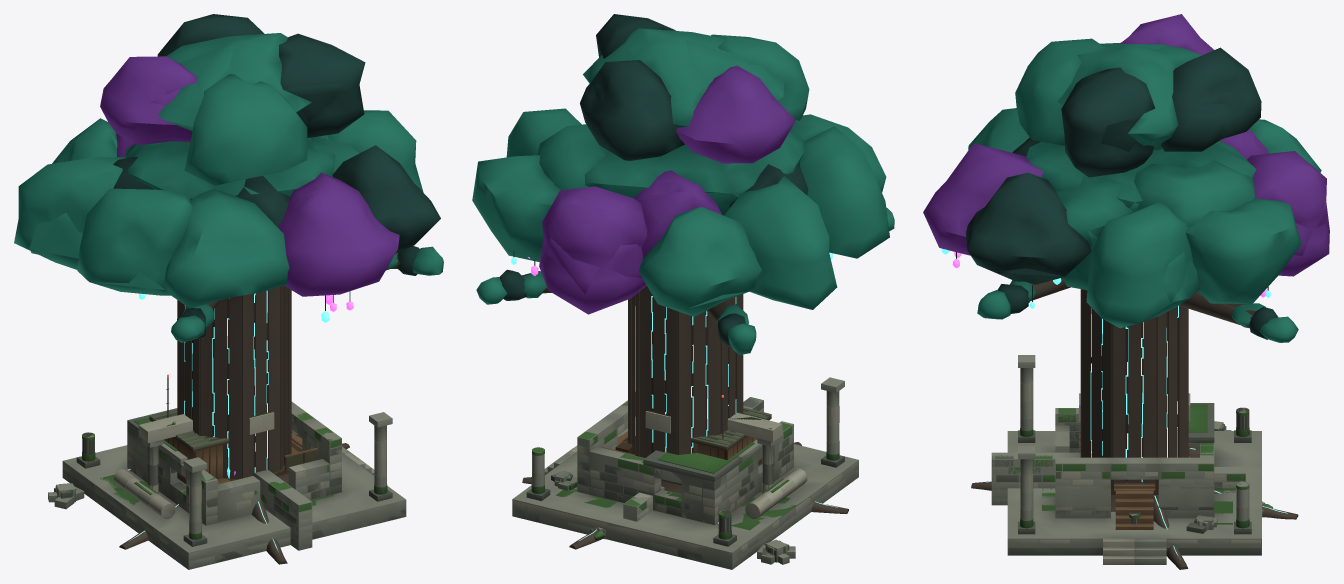
File: jungle.glb
The picture shows the model from 3 angles, left to right: view 1: azimuth 30°, elevation 25°; view 2: azimuth 150°, elevation 25°; view 3: azimuth 270°, elevation 25°; orthographic projection.
Parts seen in each view (by area): view 1: mj-tree, mj-temple-lod, mj-temple, mj-tree-lod, mj-arch-lod, mj-camp, mj-arch, mj-camp-lod, mj-colonnade, mj-colonnade-lod; view 2: mj-tree, mj-temple-lod, mj-temple, mj-tree-lod, mj-camp, mj-colonnade, mj-colonnade-lod, mj-arch, mj-camp-lod, mj-arch-lod; view 3: mj-tree, mj-temple-lod, mj-temple, mj-tree-lod, mj-arch-lod, mj-arch, mj-camp.
Boxes of the visible parts, x1=… form: mj-tree: x1=14, y1=14, x2=443, y2=564; mj-temple-lod: x1=48, y1=402, x2=406, y2=569; mj-temple: x1=48, y1=406, x2=405, y2=568; mj-tree-lod: x1=29, y1=44, x2=398, y2=563; mj-arch-lod: x1=249, y1=412, x2=312, y2=550; mj-camp: x1=149, y1=374, x2=317, y2=484; mj-arch: x1=251, y1=411, x2=311, y2=549; mj-camp-lod: x1=149, y1=413, x2=302, y2=483; mj-colonnade: x1=114, y1=414, x2=192, y2=530; mj-colonnade-lod: x1=114, y1=414, x2=192, y2=531; mj-tree: x1=472, y1=14, x2=894, y2=549; mj-temple-lod: x1=512, y1=377, x2=858, y2=569; mj-temple: x1=513, y1=379, x2=858, y2=568; mj-tree-lod: x1=523, y1=36, x2=847, y2=549; mj-camp: x1=602, y1=395, x2=771, y2=485; mj-colonnade: x1=727, y1=413, x2=806, y2=524; mj-colonnade-lod: x1=727, y1=412, x2=807, y2=531; mj-arch: x1=590, y1=397, x2=763, y2=539; mj-camp-lod: x1=622, y1=411, x2=765, y2=462; mj-arch-lod: x1=591, y1=397, x2=763, y2=530; mj-tree: x1=923, y1=14, x2=1329, y2=569; mj-temple-lod: x1=1007, y1=355, x2=1261, y2=564; mj-temple: x1=1008, y1=355, x2=1260, y2=563; mj-tree-lod: x1=971, y1=26, x2=1329, y2=569; mj-arch-lod: x1=991, y1=393, x2=1263, y2=516; mj-arch: x1=992, y1=399, x2=1264, y2=512; mj-camp: x1=1079, y1=433, x2=1190, y2=529.
Bounding box in the file's own units: 26.25 × 31.81 × 25.61.
